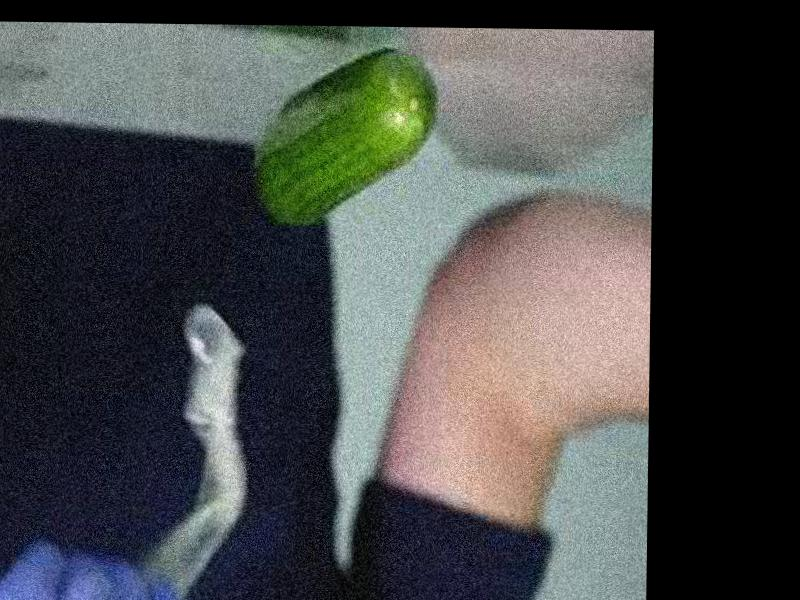Cucumber: (254, 45, 438, 227)
